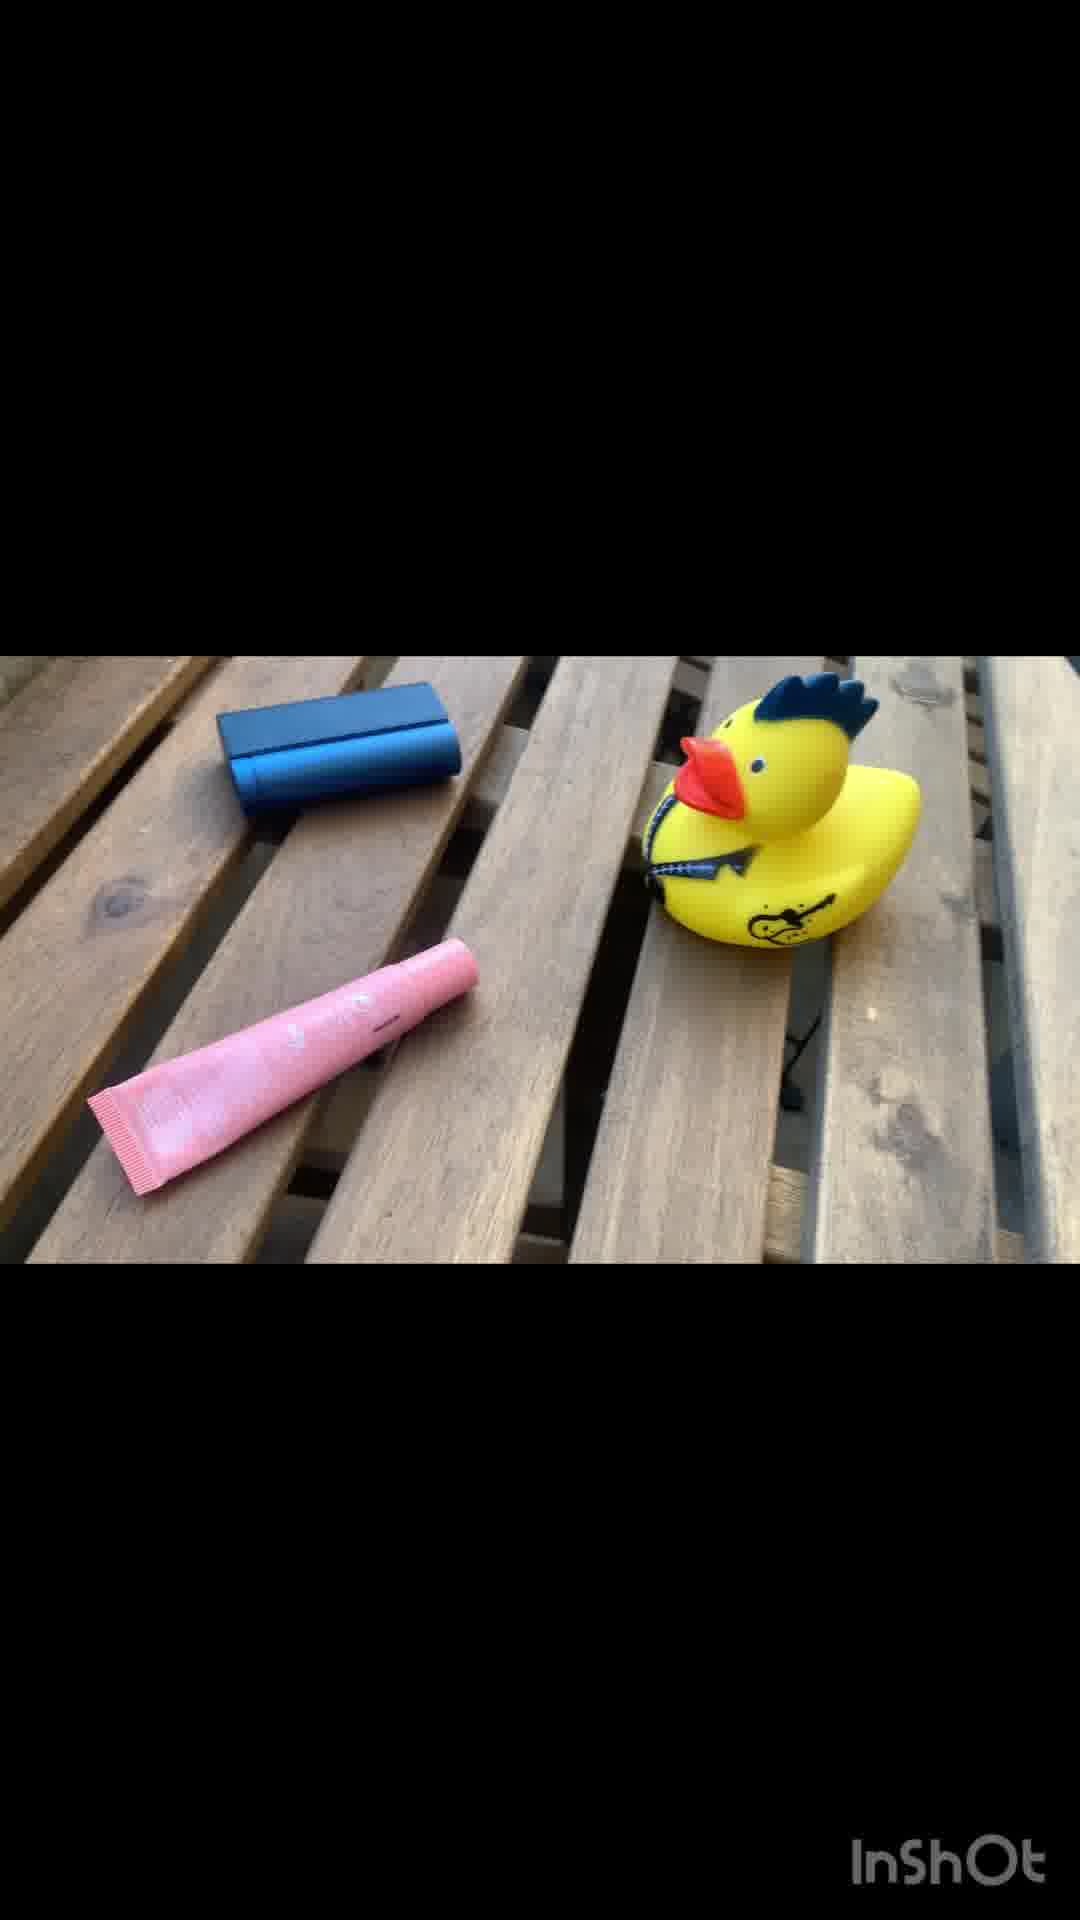duck: (640, 687, 928, 949)
glo: (195, 694, 469, 818)
lip balm: (80, 928, 502, 1189)
